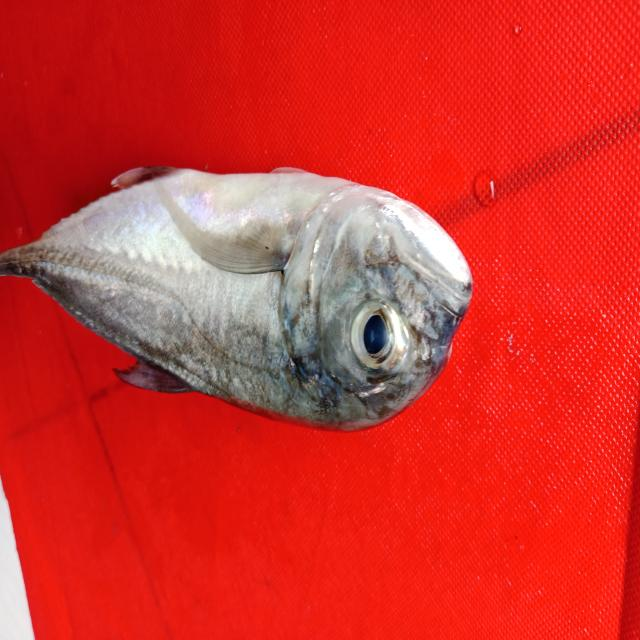ikan: (9, 130, 500, 446)
